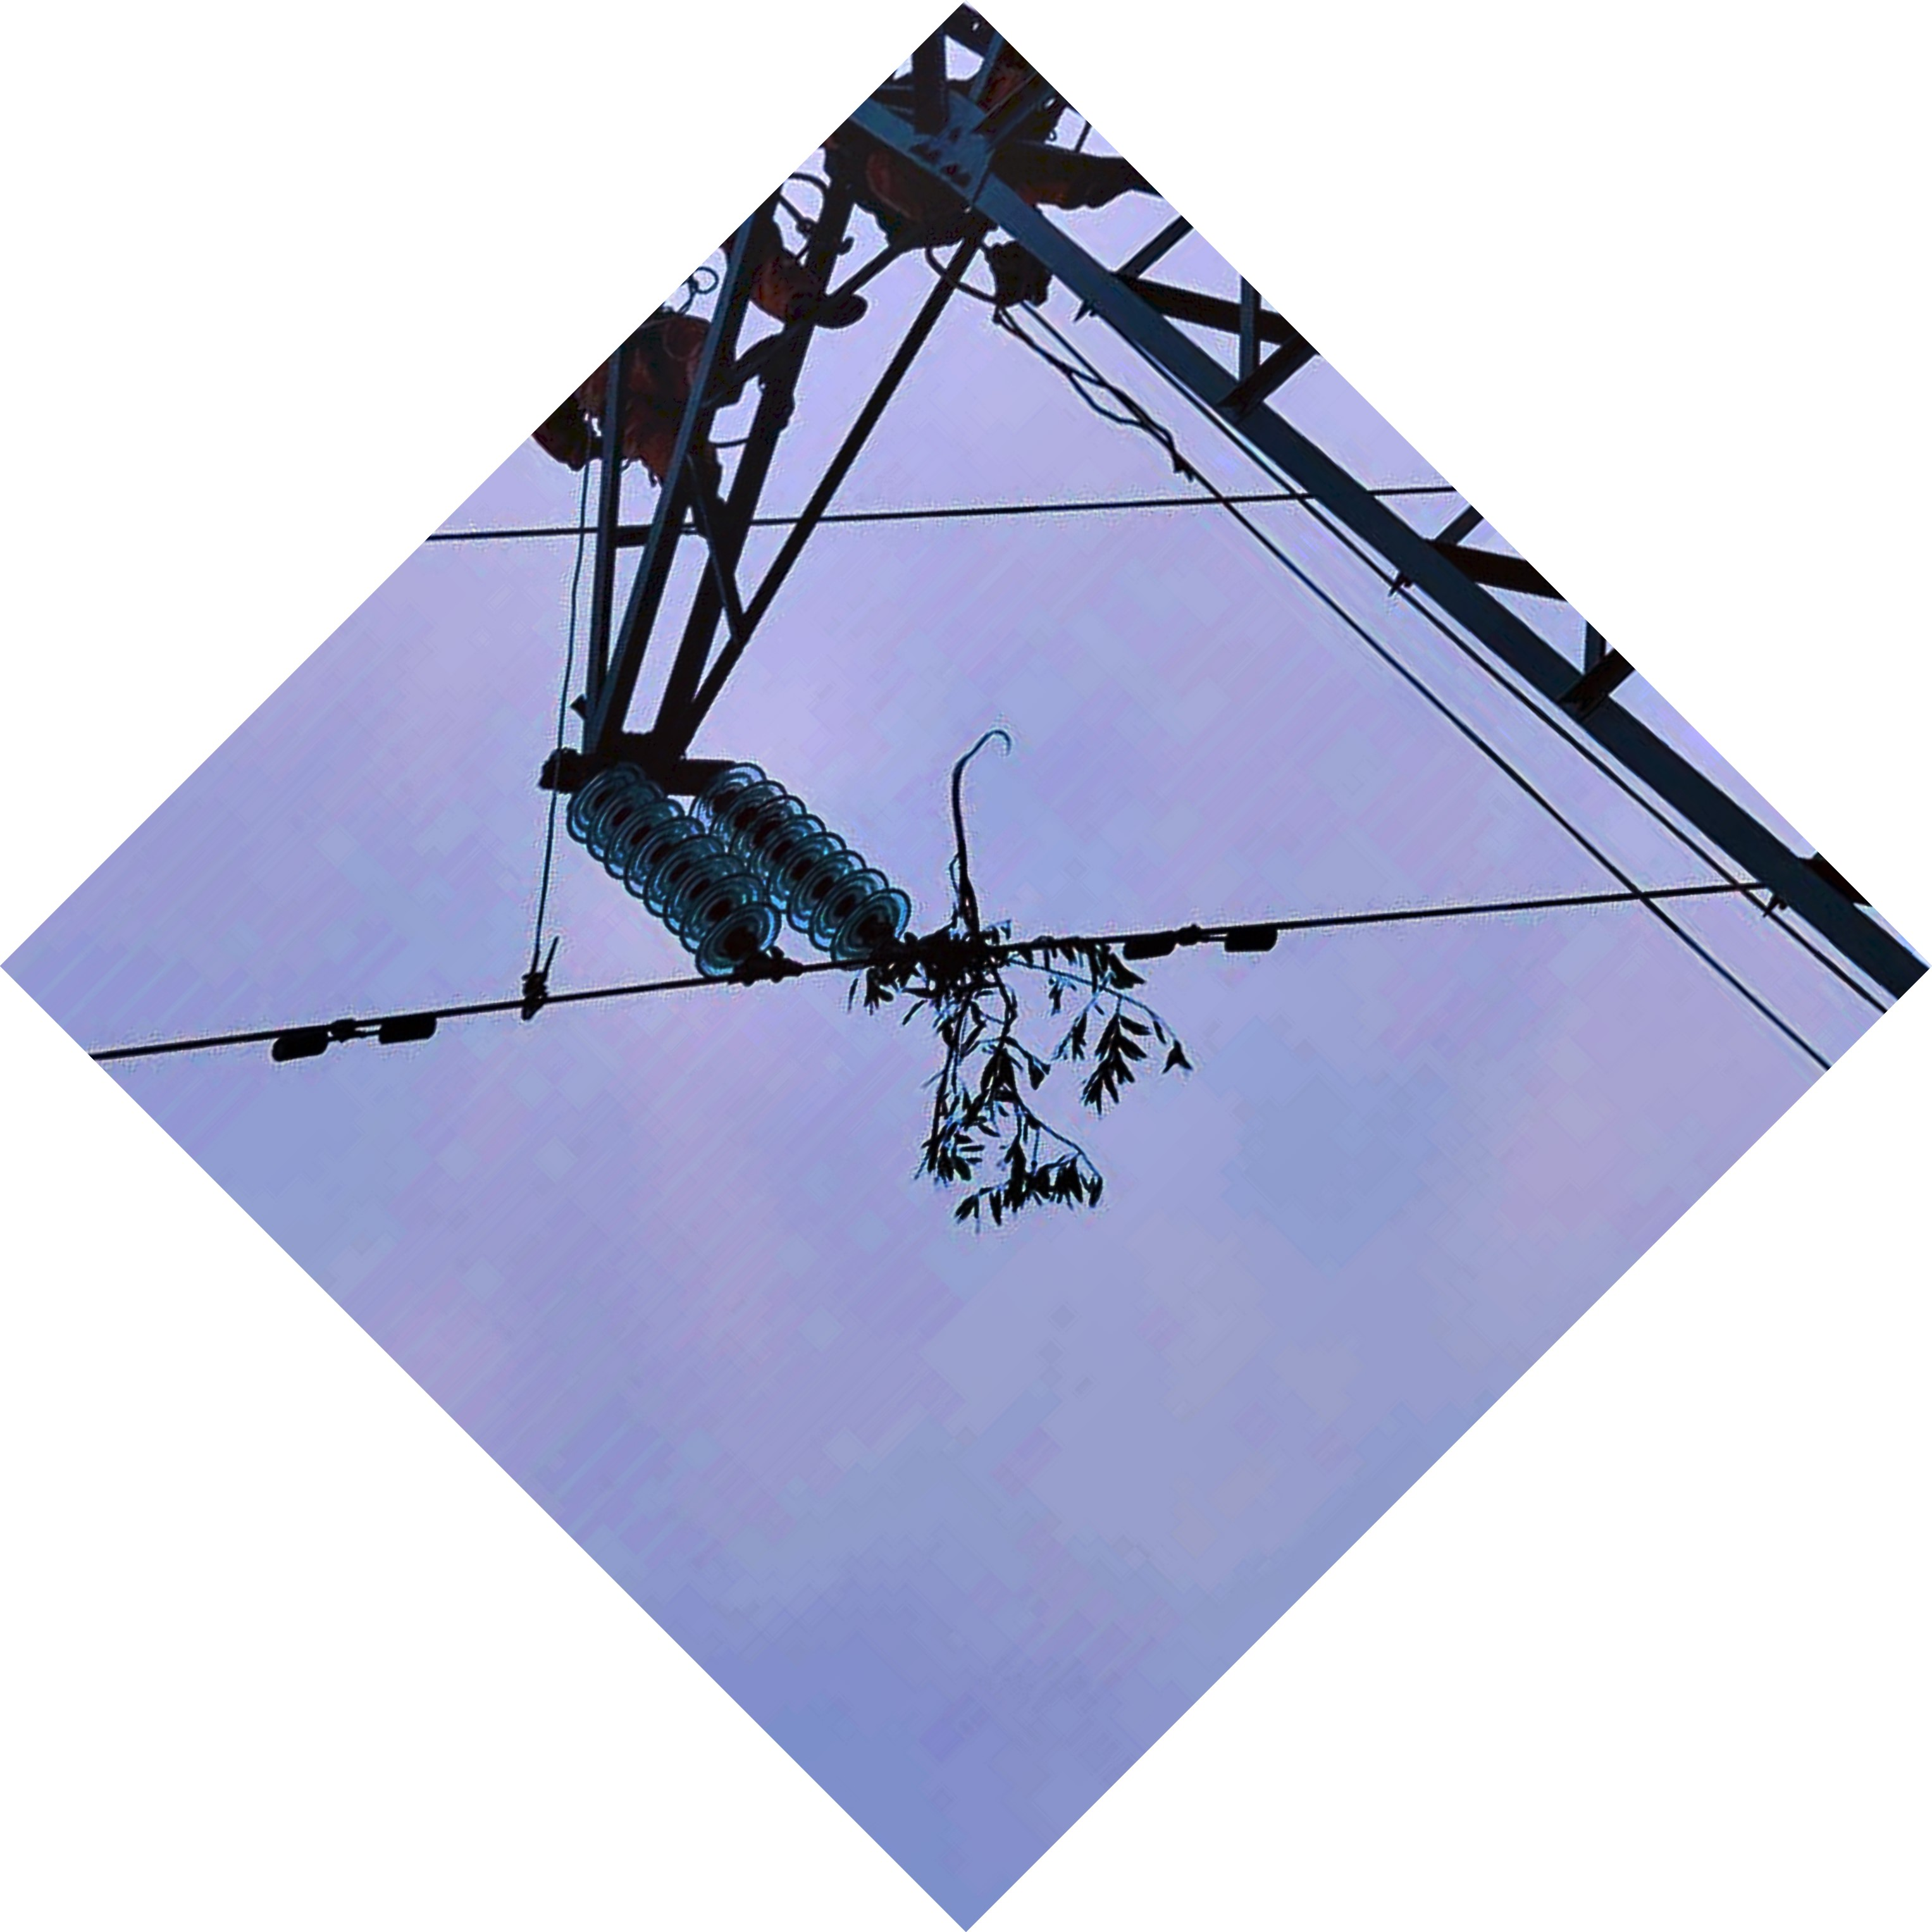wire foreign body: (883, 879, 1196, 1256)
